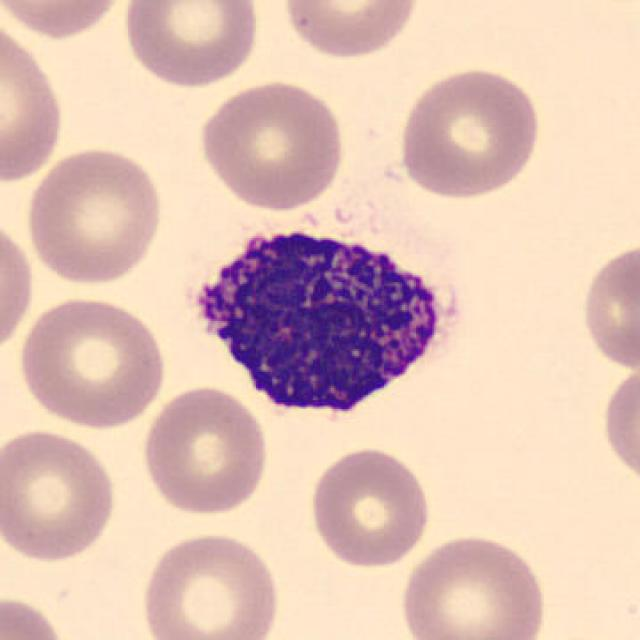Basophil: (176, 212, 475, 434)
RBC: (14, 293, 171, 430), (21, 143, 167, 287), (194, 76, 348, 212), (395, 63, 544, 201), (137, 382, 272, 516), (397, 529, 551, 640), (0, 425, 121, 566), (304, 443, 434, 571), (137, 527, 284, 640), (119, 0, 263, 90), (0, 10, 69, 188), (576, 238, 640, 376), (279, 0, 421, 62), (0, 0, 130, 42), (0, 211, 37, 357), (598, 361, 638, 492), (0, 592, 73, 640)
